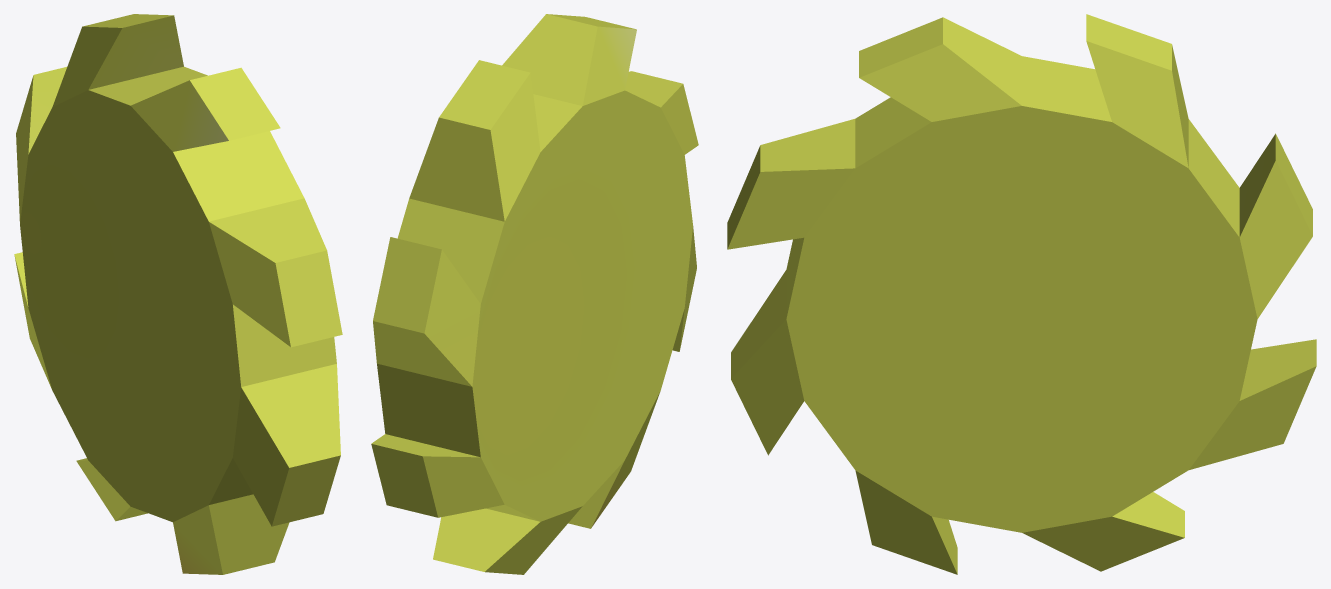
Rendered from CoalShovel.fbx.
3 renders of one model, left to right at view 1: azimuth 30°, elevation 25°; view 2: azimuth 150°, elevation 25°; view 3: azimuth 270°, elevation 25°, orthographic. The views are drawn at different scales.
Visible parts, largest first — view 1: Cylinder; view 2: Cylinder; view 3: Cylinder.
Part boxes in pixels (x1,y1,x2,y2): Cylinder: [14, 14, 342, 574]; Cylinder: [371, 14, 698, 574]; Cylinder: [727, 14, 1316, 574].
Bounding box in the file's own units: 50 × 250 × 250.
